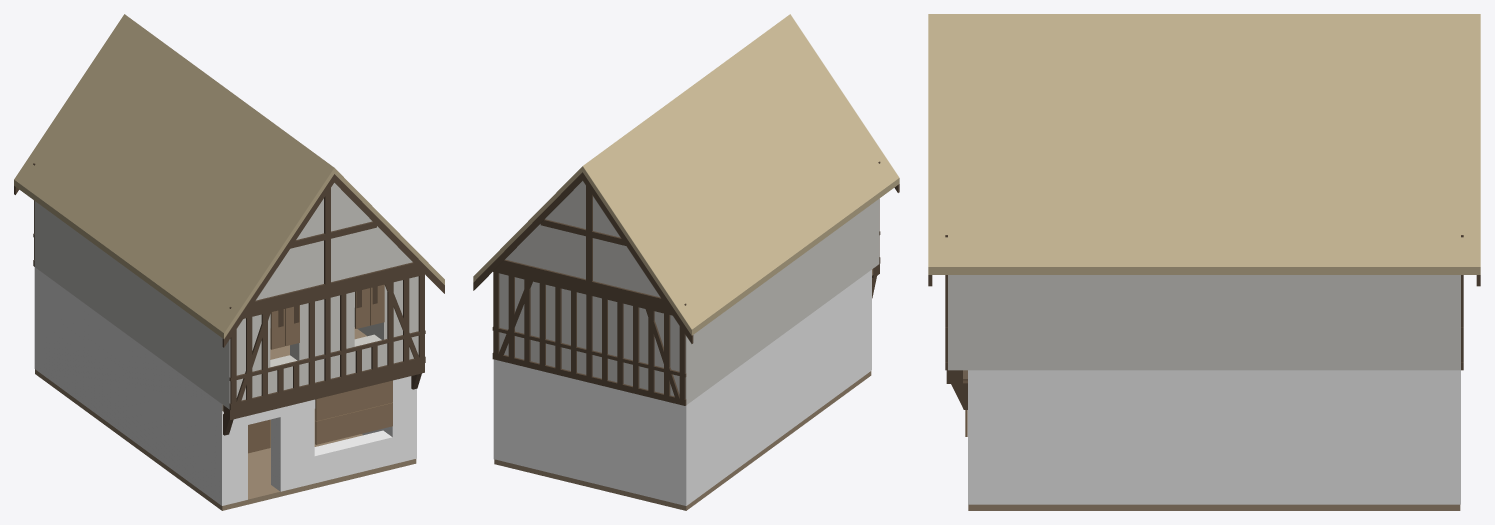
The model's file is glastonbury-b.glb.
3 views of the same model, side by side, from view 1: azimuth 30°, elevation 25°; view 2: azimuth 150°, elevation 25°; view 3: azimuth 270°, elevation 25° (orthographic). The views are drawn at different scales.
Parts seen in each view (by area): view 1: roof, stone, render, timber, floor, glastonbury-b-shutter-02 leaf, glastonbury-b-shutter-01 leaf, glastonbury-b-door-01 leaf, glastonbury-b-shutter-03 leaf, glastonbury-b-shutter-06 leaf, glastonbury-b-shutter-04 leaf, glastonbury-b-shutter-05 leaf; view 2: roof, stone, render, timber, floor; view 3: roof, stone, render, floor, timber.
Part boxes in pixels (<box>): roof: <box>14,14,444,338</box>; stone: <box>34,267,416,505</box>; render: <box>34,183,418,409</box>; timber: <box>14,163,444,435</box>; floor: <box>35,327,416,510</box>; glastonbury-b-shutter-02 leaf: <box>315,403,392,444</box>; glastonbury-b-shutter-01 leaf: <box>315,380,392,421</box>; glastonbury-b-door-01 leaf: <box>248,419,270,453</box>; glastonbury-b-shutter-03 leaf: <box>270,309,285,349</box>; glastonbury-b-shutter-06 leaf: <box>370,284,384,325</box>; glastonbury-b-shutter-04 leaf: <box>285,305,299,345</box>; glastonbury-b-shutter-05 leaf: <box>355,288,369,328</box>; roof: <box>473,14,899,335</box>; stone: <box>493,270,871,505</box>; render: <box>499,181,879,404</box>; timber: <box>473,161,899,405</box>; floor: <box>494,269,873,510</box>; roof: <box>928,14,1480,274</box>; stone: <box>968,370,1460,504</box>; render: <box>948,275,1460,370</box>; floor: <box>963,370,1460,510</box>; timber: <box>928,235,1480,409</box>.
Bounding box in the file's own units: 6.8 × 9.73 × 11.2.
